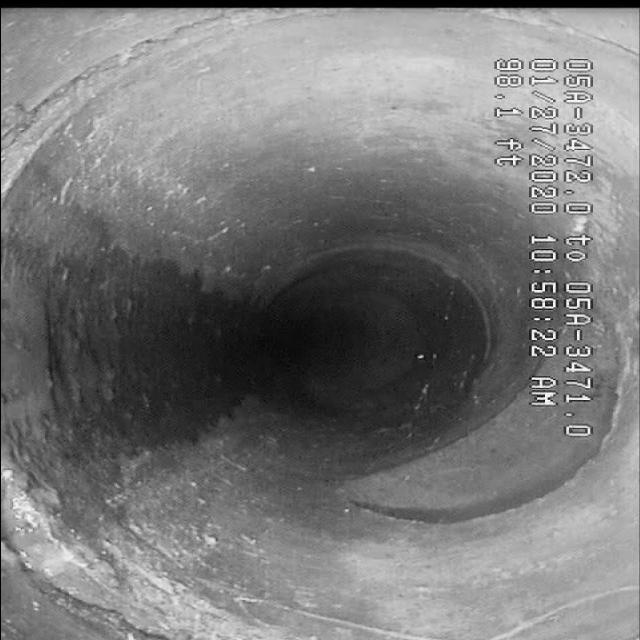Fracture: (8, 12, 276, 170)
